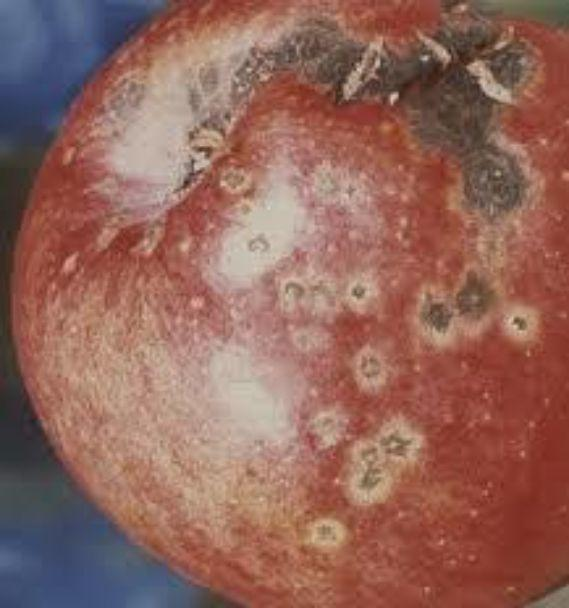SCAB: (13, 3, 569, 595)
